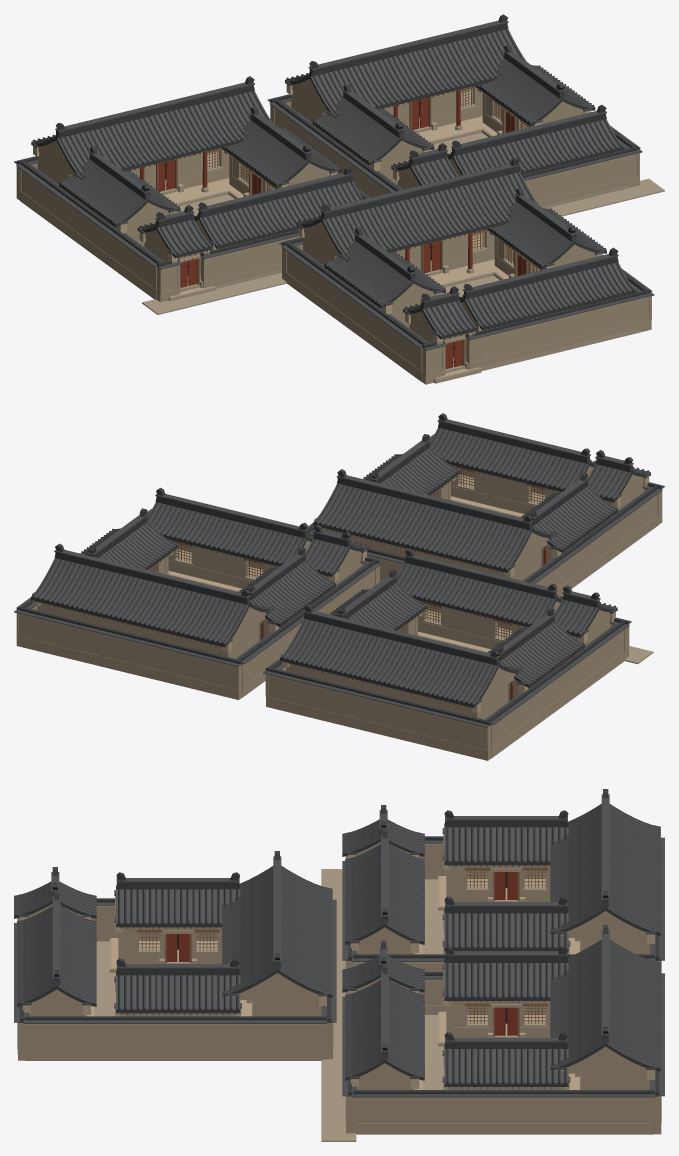
3 views of the same model, one above another, from view 1: azimuth 30°, elevation 25°; view 2: azimuth 150°, elevation 25°; view 3: azimuth 270°, elevation 25° (orthographic). The views are drawn at different scales.
Parts seen in each view (by area): view 1: K07b; view 2: K07b; view 3: K07b.
Part boxes in pixels (x1,y1,x2,y2): K07b: [14, 14, 664, 384]; K07b: [14, 413, 664, 760]; K07b: [14, 789, 664, 1141].
Bounding box in the file's own units: 46 × 7.72 × 46.61.
